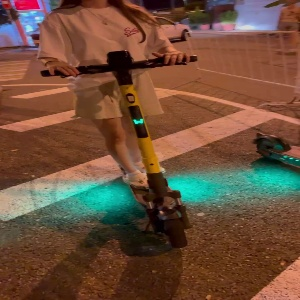human on a scooter: (38, 1, 199, 250)
